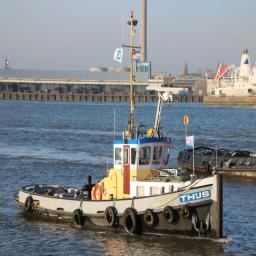tugboat: (12, 84, 226, 247)
